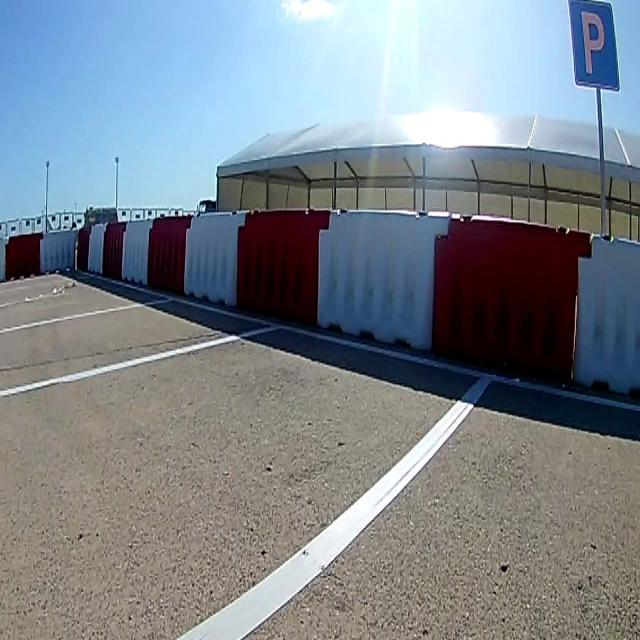park: (568, 1, 621, 90)
